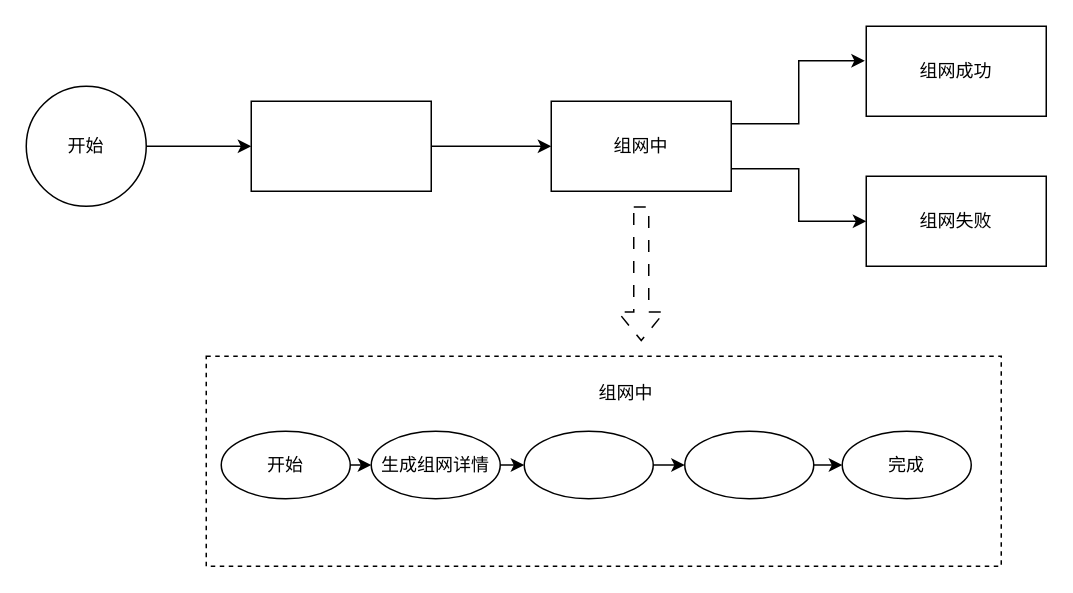
The diagram is 1073 pixels wide and 593 high, and some of its shapes have lost their labels. The shapes that lost their labels are listed below. From the top down, each one's box as (x1, y1, x2, y2) in pixels, then its label:
(250, 100, 431, 191): 草稿
(523, 430, 653, 499): 模拟询价
(683, 430, 814, 499): 刷新缓存
